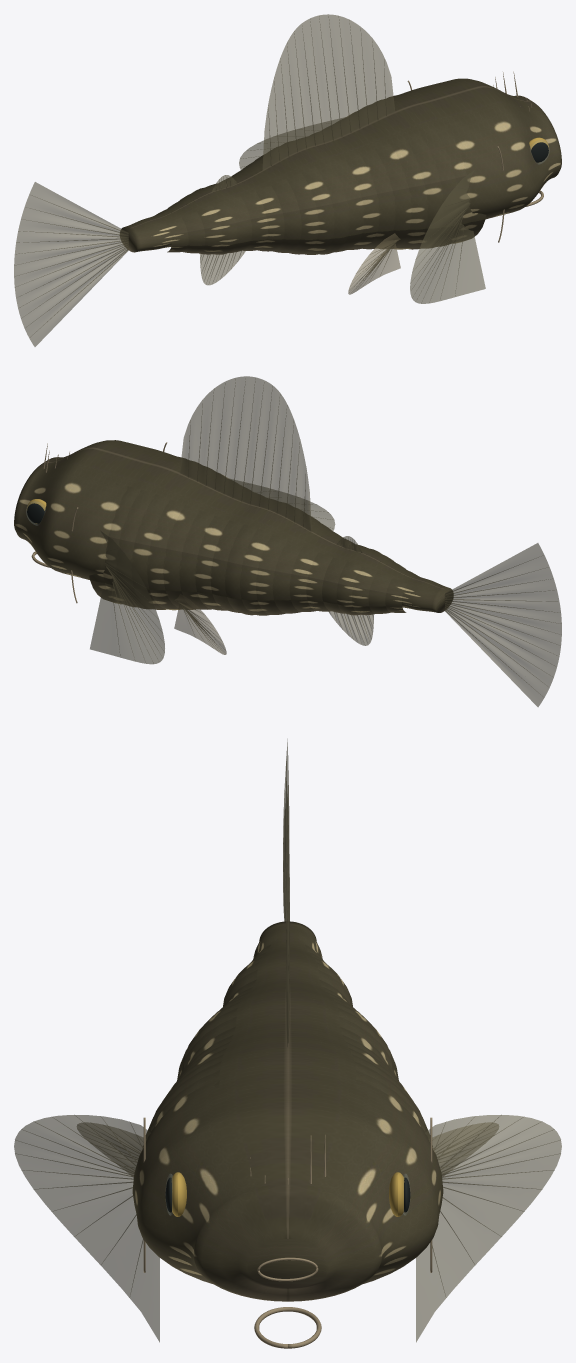
The model's file is ancistrus-desktop.glb.
The picture shows the model from 3 angles, top to bottom: view 1: azimuth 30°, elevation 25°; view 2: azimuth 150°, elevation 25°; view 3: azimuth 270°, elevation 25°; orthographic projection. The views are drawn at different scales.
Visible parts, largest first — view 1: skin, dorsal, tail, pectoral-left, dorsal-ray, pelvic-left, anal; view 2: skin, dorsal, tail, pectoral-left, dorsal-ray, pelvic-left, anal; view 3: skin, pectoral-left, dorsal-ray, pelvic-left, operculum, eye-iris--1, dorsal.
Part boxes in pixels (x1,y1,x2,y2): skin: (120, 78, 561, 254); dorsal: (211, 14, 395, 192); tail: (14, 182, 128, 346); pectoral-left: (239, 117, 485, 303); dorsal-ray: (15, 16, 470, 333); pelvic-left: (348, 233, 400, 294); anal: (200, 250, 245, 285); skin: (14, 440, 453, 615); dorsal: (180, 376, 361, 552); tail: (445, 543, 561, 706); pectoral-left: (90, 479, 335, 664); dorsal-ray: (105, 378, 560, 694); pelvic-left: (174, 594, 226, 654); anal: (329, 611, 373, 645); skin: (132, 921, 443, 1301); pectoral-left: (14, 1115, 561, 1342); dorsal-ray: (15, 751, 560, 1281); pelvic-left: (77, 1122, 498, 1176); operculum: (143, 1117, 432, 1348); eye-iris--1: (171, 1172, 404, 1216); dorsal: (286, 803, 289, 1046).
Size of the model in its own units: 0.6092 by 0.2987 by 0.3364.
Materials: 11 (1 with a texture image).
